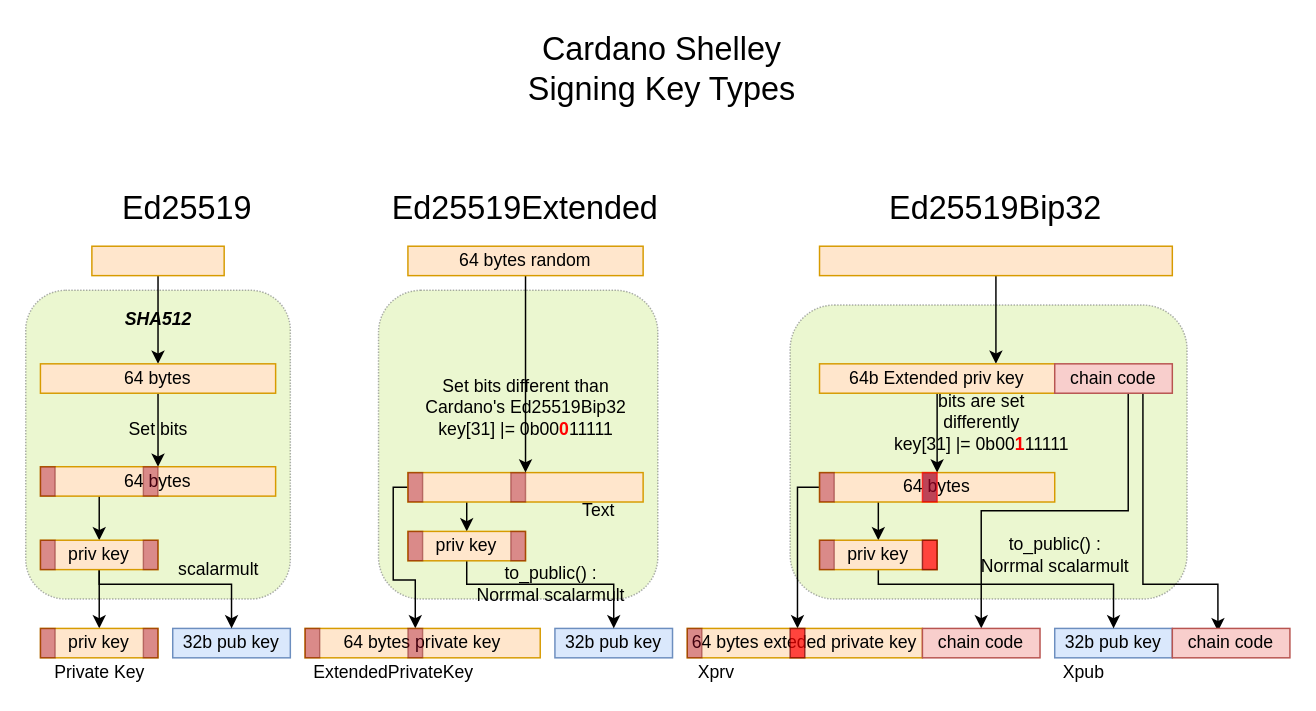
This 1316x711 diagram has some shape labels left out. The box of each missing label's shape, as (x1, y1, x2, y2) in pixels:
32b random: (90, 245, 224, 276)
64 bytes privatekey: (406, 471, 643, 502)
96 bytes random: (818, 245, 1172, 276)
keypair(): (24, 289, 290, 599)
